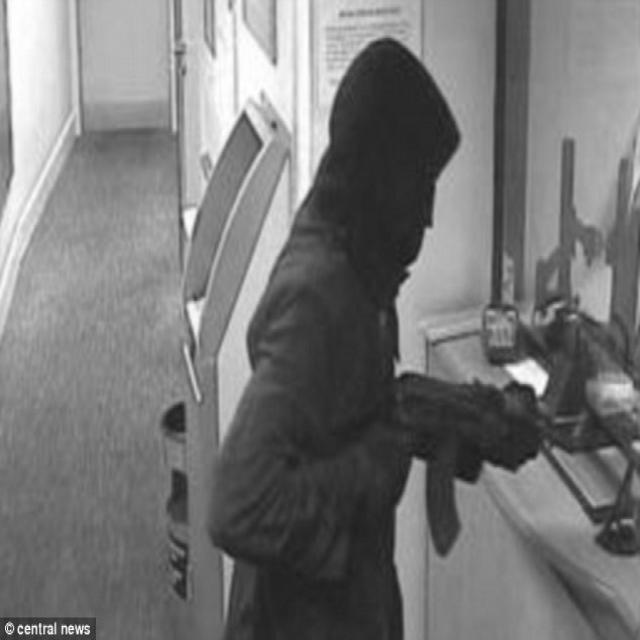gun: (389, 365, 578, 557)
